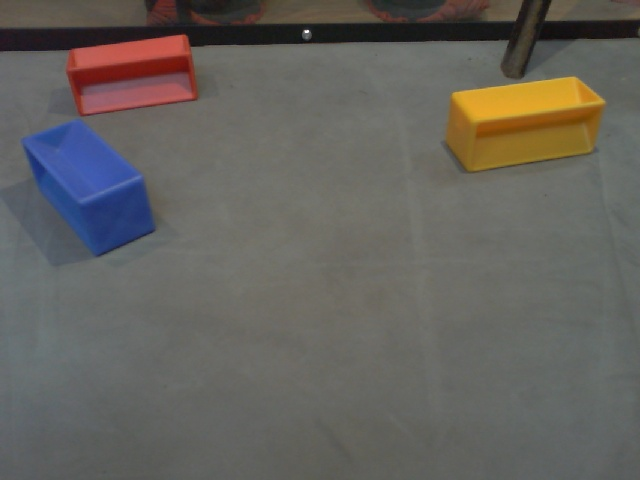BlueSample: (18, 116, 157, 259)
RedSample: (62, 33, 199, 120)
YellowSample: (440, 76, 607, 177)
